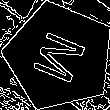M_SE: (26, 26, 92, 87)
